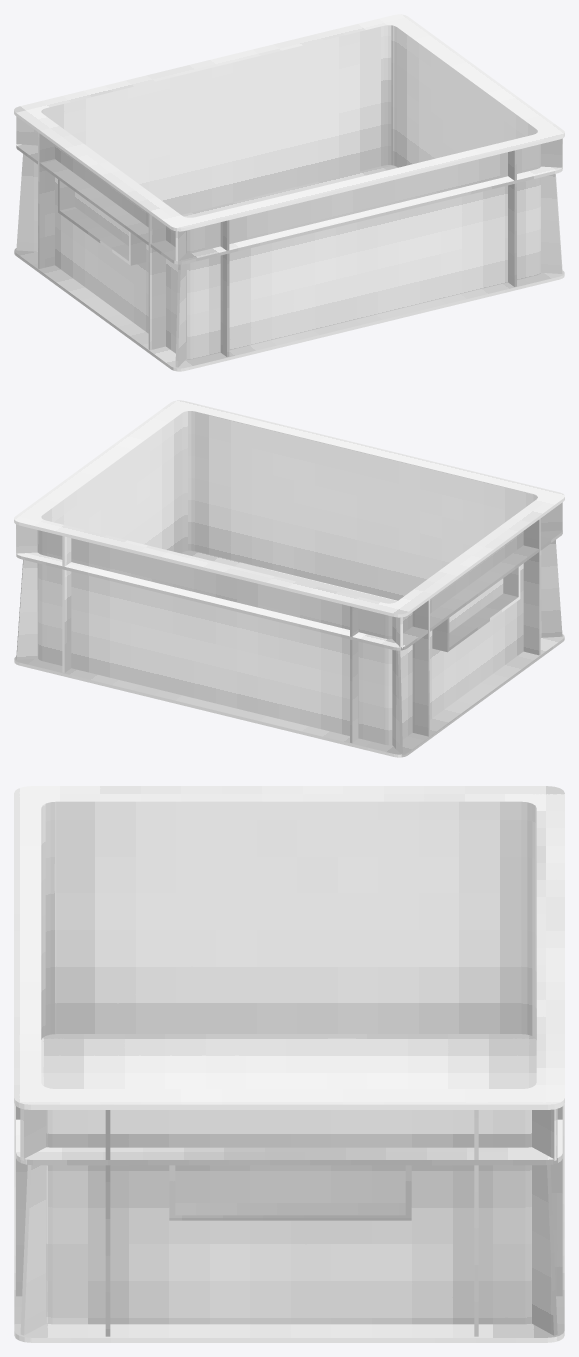
Rendered from StorageBox.glb.
3 views of the same model, one above another, from view 1: azimuth 30°, elevation 25°; view 2: azimuth 150°, elevation 25°; view 3: azimuth 270°, elevation 25° (orthographic). The views are drawn at different scales.
Visible parts, largest first — view 1: StorageBox; view 2: StorageBox; view 3: StorageBox.
Part boxes in pixels (<box>): StorageBox: <box>14,14,564,371</box>; StorageBox: <box>14,400,564,757</box>; StorageBox: <box>14,786,564,1342</box>.
Size of the model in its own units: 0.8989 by 0.3135 by 0.657.
Materials: 1 (1 with a texture image).
